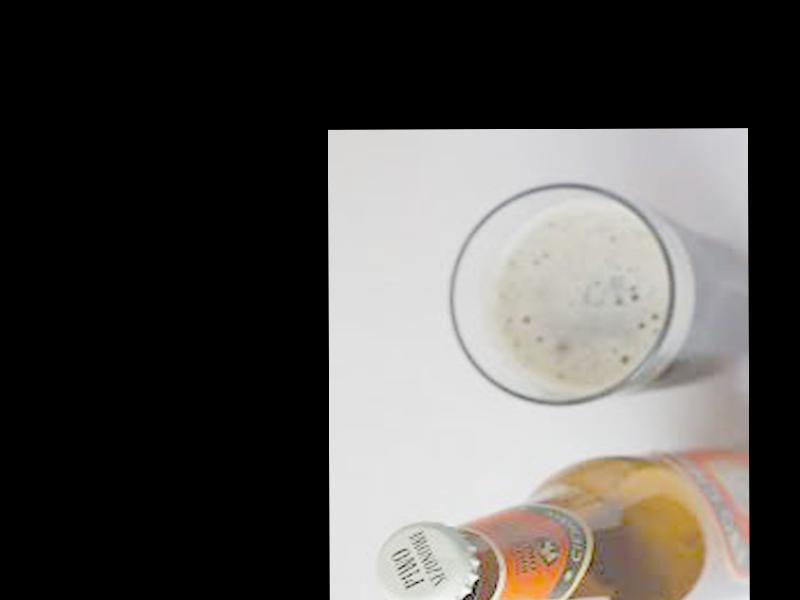Beer: (375, 445, 750, 600)
